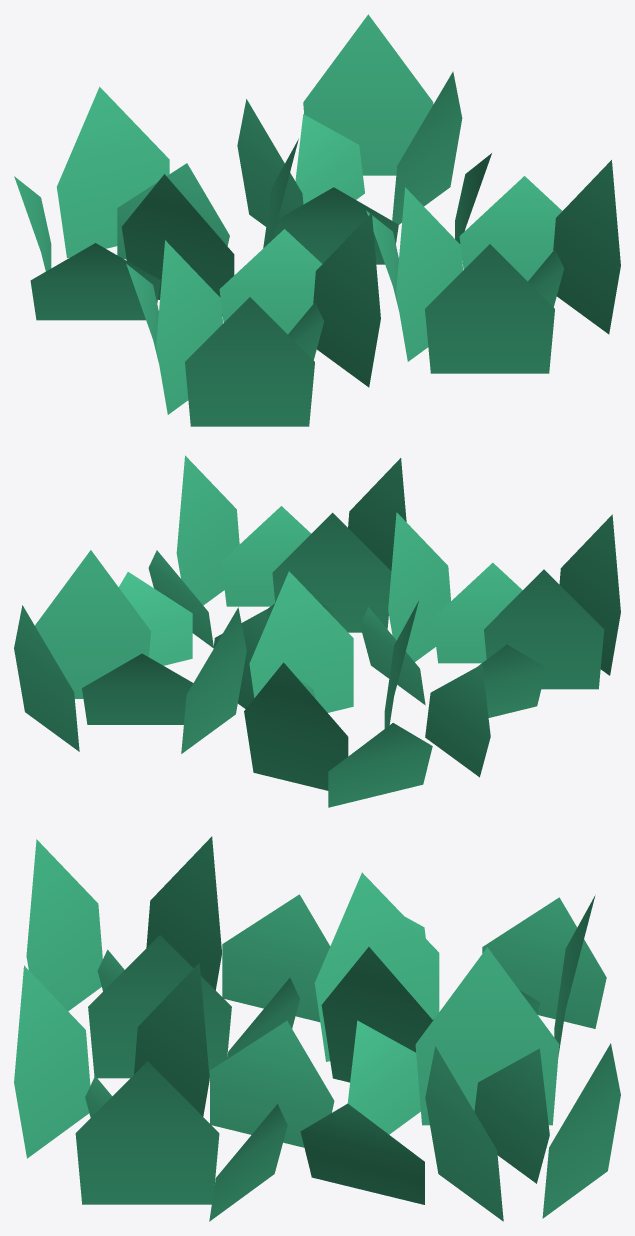
File: grassLarge.fbx
The picture shows the model from 3 angles, top to bottom: view 1: azimuth 30°, elevation 25°; view 2: azimuth 150°, elevation 25°; view 3: azimuth 270°, elevation 25°; orthographic projection. The views are drawn at different scales.
Parts seen in each view (by area): view 1: grassLarge; view 2: grassLarge; view 3: grassLarge.
Boxes of the visible parts, x1,y1,x2,y2 form: grassLarge: [14, 14, 620, 426]; grassLarge: [14, 455, 620, 807]; grassLarge: [14, 836, 620, 1221].
Bounding box in the file's own units: 19.04 × 5.7 × 19.49.
